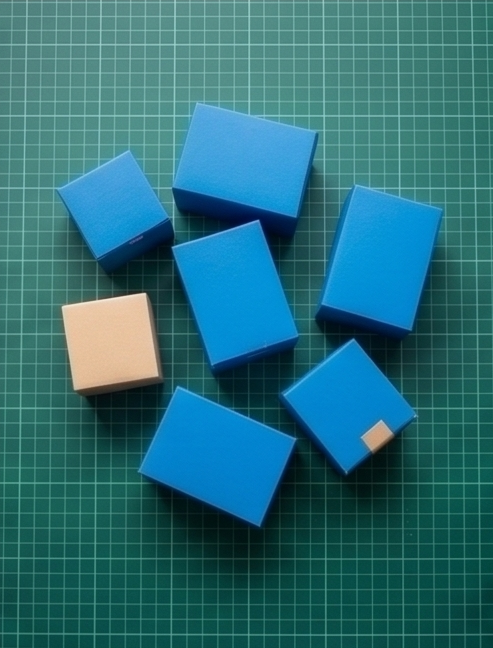blue_box: (133, 386, 296, 531), (172, 220, 300, 378), (170, 101, 318, 237), (310, 183, 443, 333), (281, 340, 419, 475), (55, 154, 172, 278)
